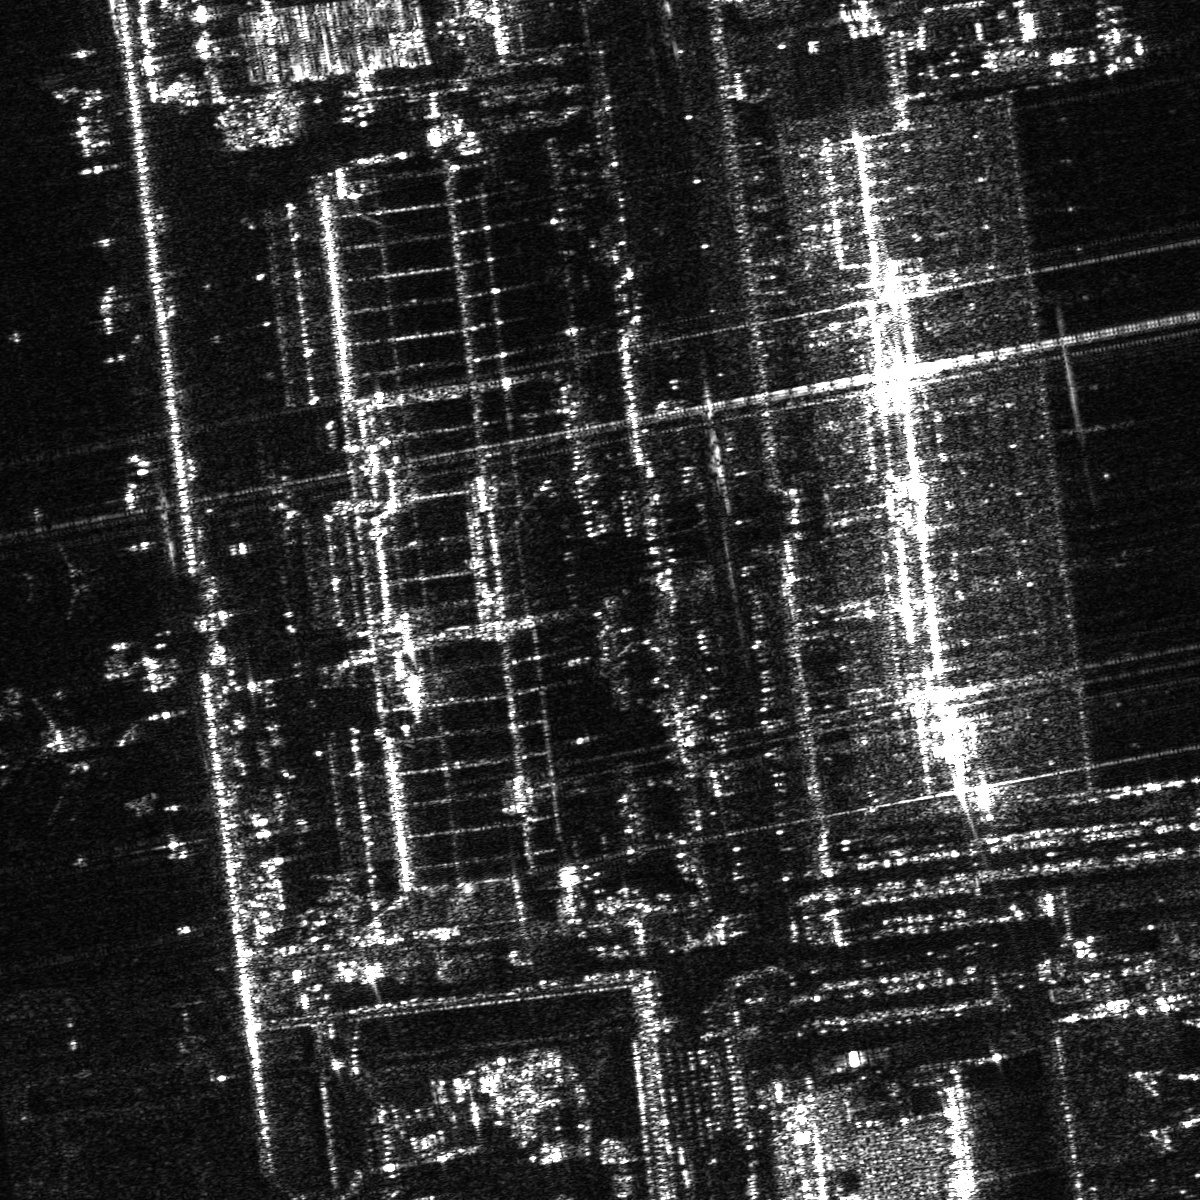Boeing787: (1, 698, 119, 832), (10, 532, 114, 631)
